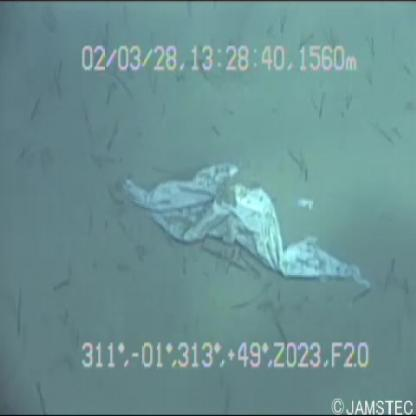Rác: (112, 128, 386, 313)
